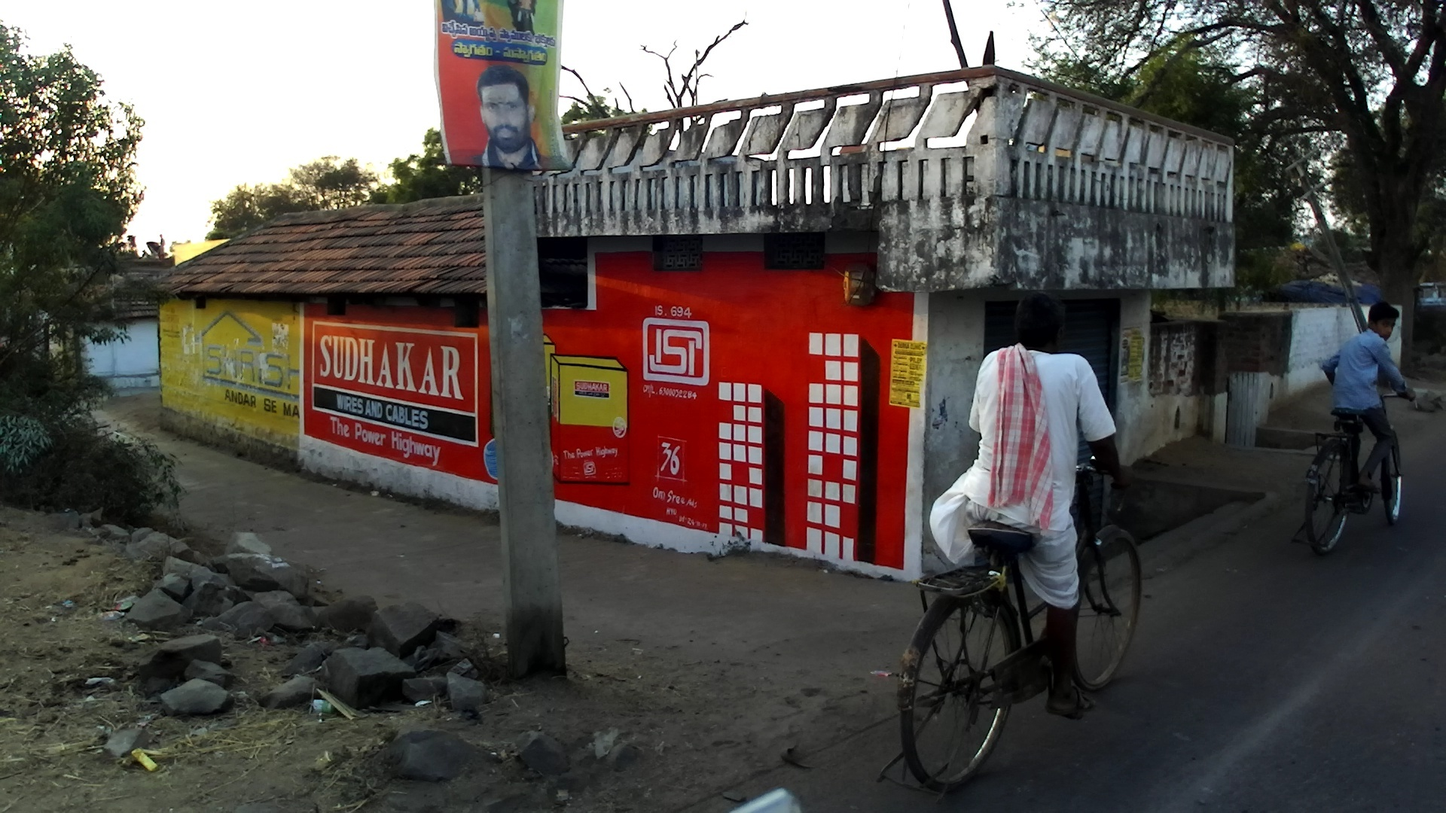bicycle: (876, 456, 1144, 804), (1288, 391, 1418, 558)
rider: (929, 288, 1139, 717), (1316, 303, 1416, 499)
